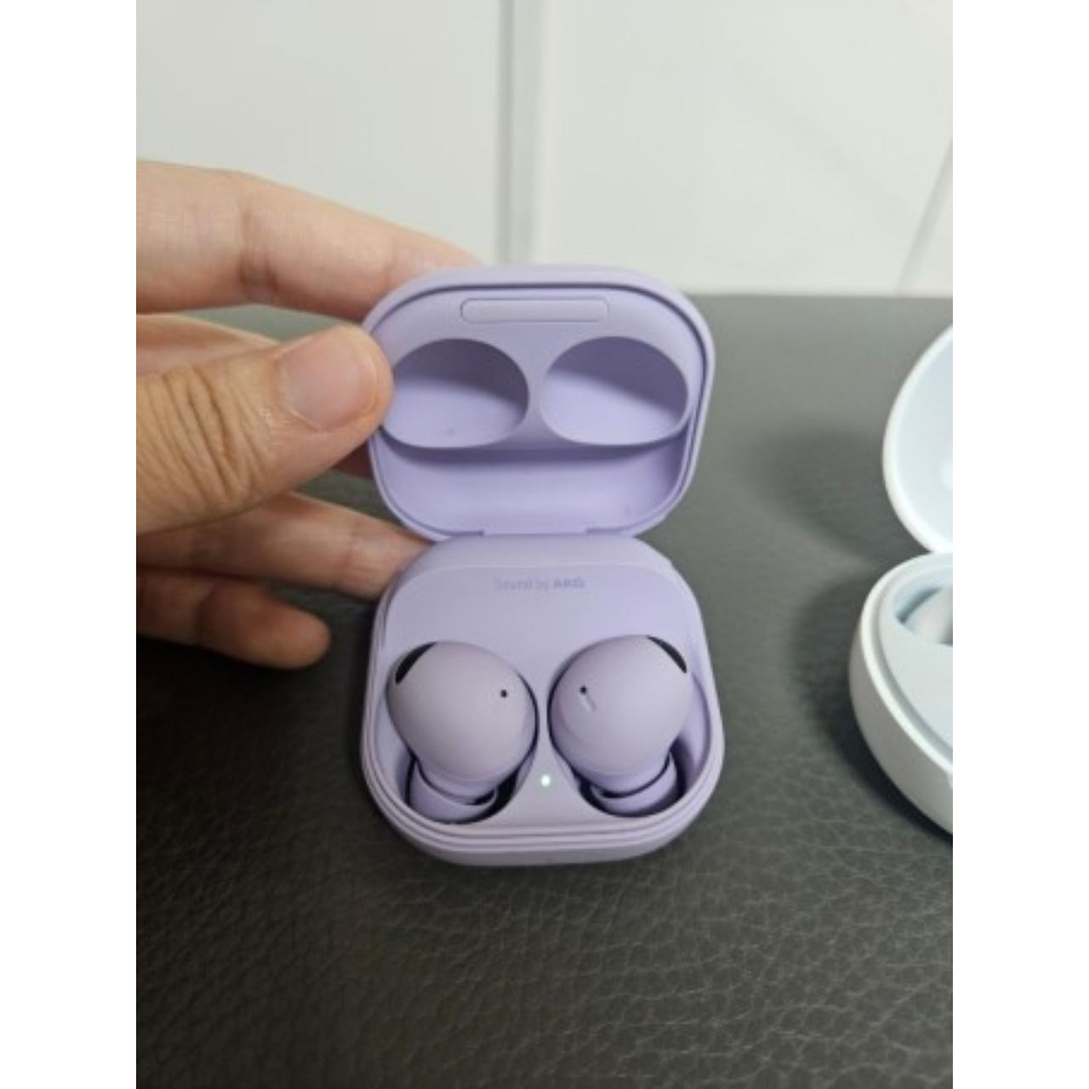Buds: (339, 265, 735, 884)
Buds_Units: (380, 631, 539, 827), (543, 629, 707, 819)
